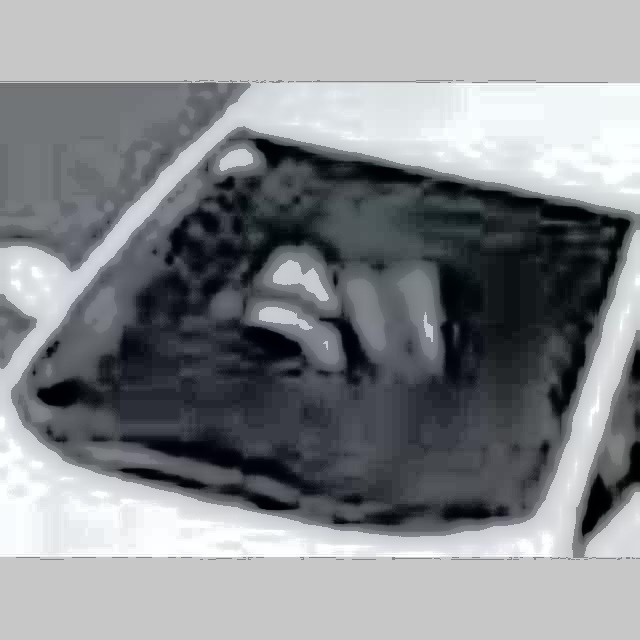pakai: (211, 158, 452, 422)
